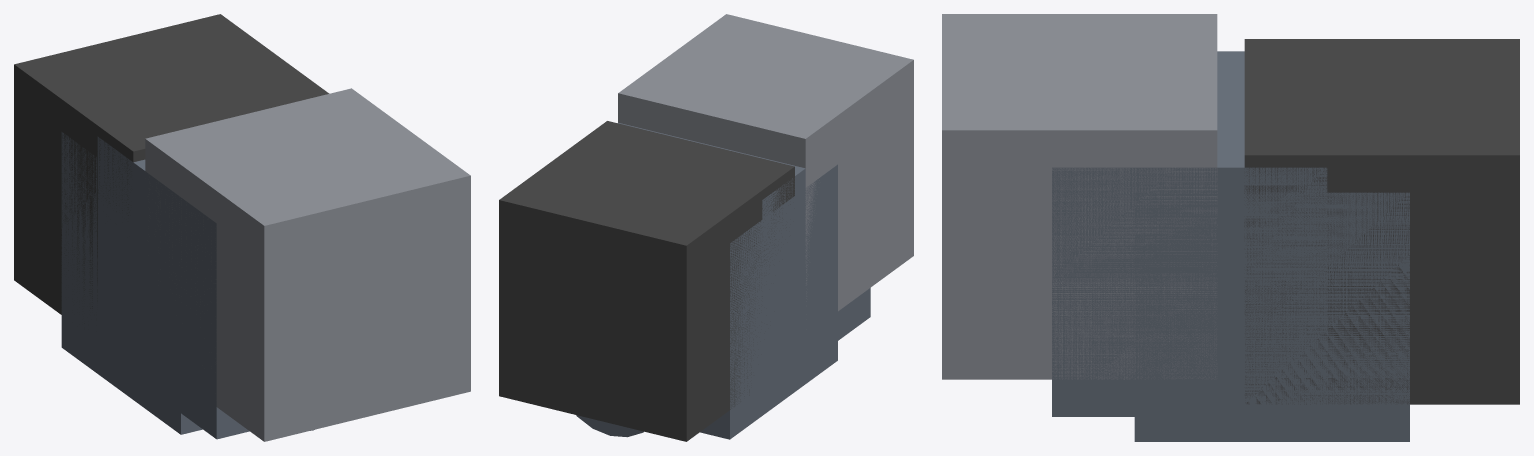
File: veh_bike_motorcycle.glb
The picture shows the model from 3 angles, left to right: view 1: azimuth 30°, elevation 25°; view 2: azimuth 150°, elevation 25°; view 3: azimuth 270°, elevation 25°; orthographic projection. The views are drawn at different scales.
Visible parts, largest first — view 1: world; view 2: world; view 3: world.
Part boxes in pixels (x1,y1,x2,y2): world: (14,14,470,441); world: (499,14,913,441); world: (942,14,1519,441).
Size of the model in its own units: 1 by 1.25 by 2.1.
